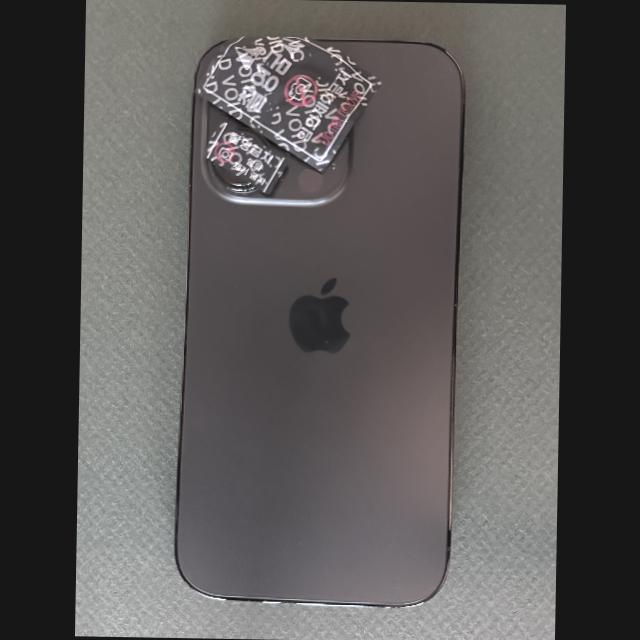lens: (213, 161, 255, 190)
phone: (175, 35, 463, 606)
sticker: (195, 36, 382, 173), (204, 124, 285, 194)
